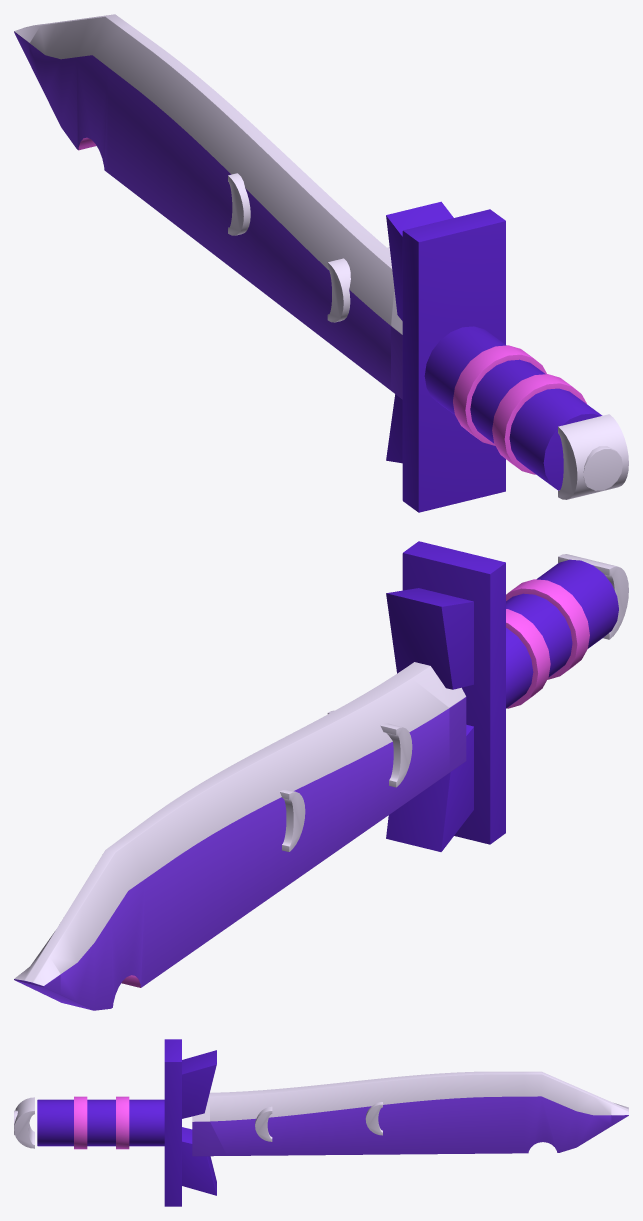
File: Sword_UmbralFalchion.glb
The picture shows the model from 3 angles, top to bottom: view 1: azimuth 30°, elevation 25°; view 2: azimuth 150°, elevation 25°; view 3: azimuth 270°, elevation 25°; orthographic projection. The views are drawn at different scales.
Visible parts, largest first — view 1: Sword_UmbralFalchion; view 2: Sword_UmbralFalchion; view 3: Sword_UmbralFalchion.
Boxes of the visible parts, <box> form: Sword_UmbralFalchion: <box>14,14,628,512</box>; Sword_UmbralFalchion: <box>14,541,628,1010</box>; Sword_UmbralFalchion: <box>14,1039,628,1206</box>.
Bounding box in the file's own units: 0.088 × 0.26 × 1.
1 material, 1 textured.
